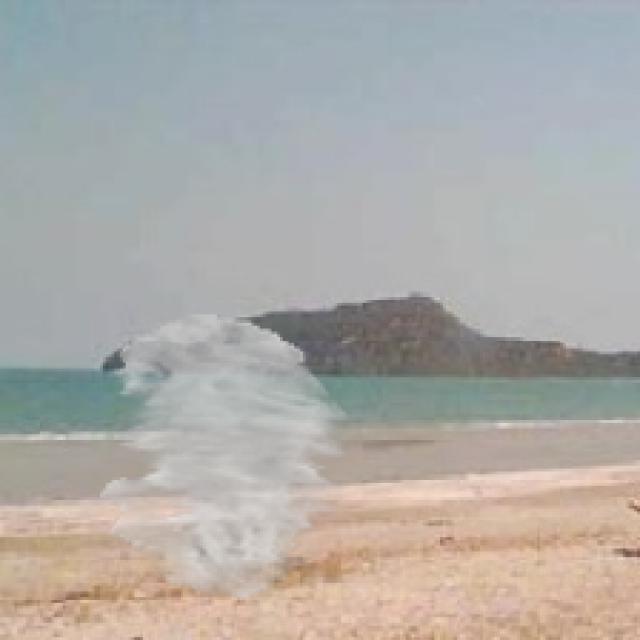smoke: (100, 314, 351, 597)
